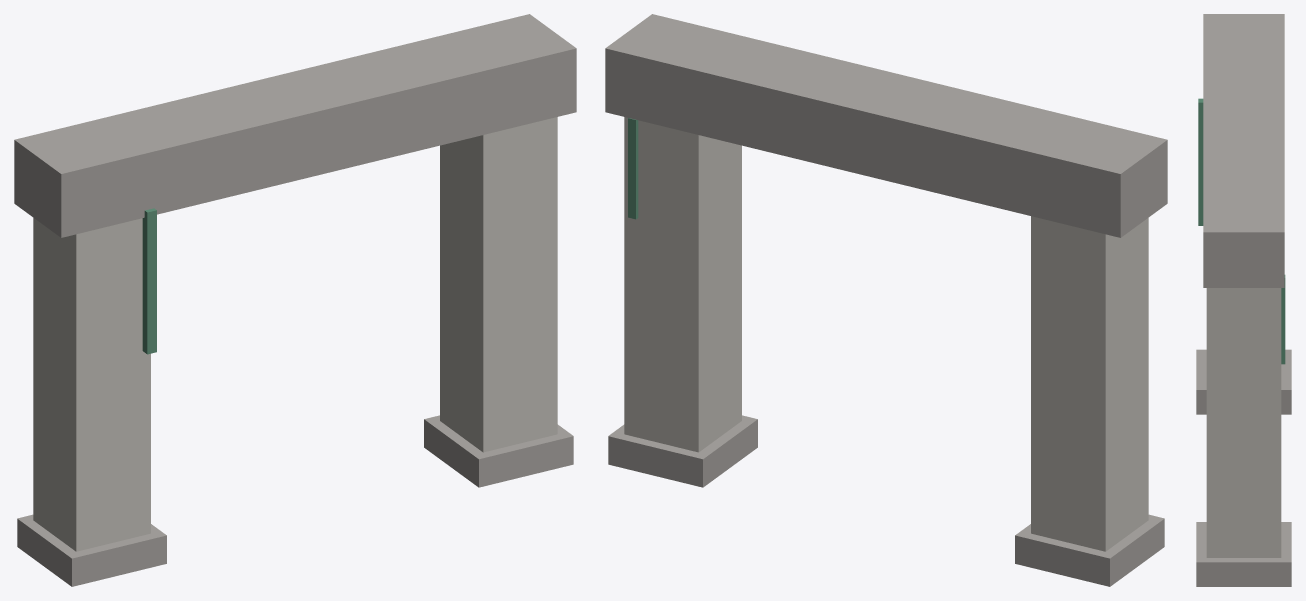
File: ExitGate.fbx
The picture shows the model from 3 angles, left to right: view 1: azimuth 30°, elevation 25°; view 2: azimuth 150°, elevation 25°; view 3: azimuth 270°, elevation 25°; orthographic projection. The views are drawn at different scales.
Parts seen in each view (by area): view 1: Body; view 2: Body; view 3: Body.
Boxes of the visible parts, x1,y1,x2,y2 form: Body: [14, 14, 576, 586]; Body: [605, 14, 1167, 586]; Body: [1196, 14, 1291, 586].
Size of the model in its own units: 7.6 by 5.8 by 1.4.
